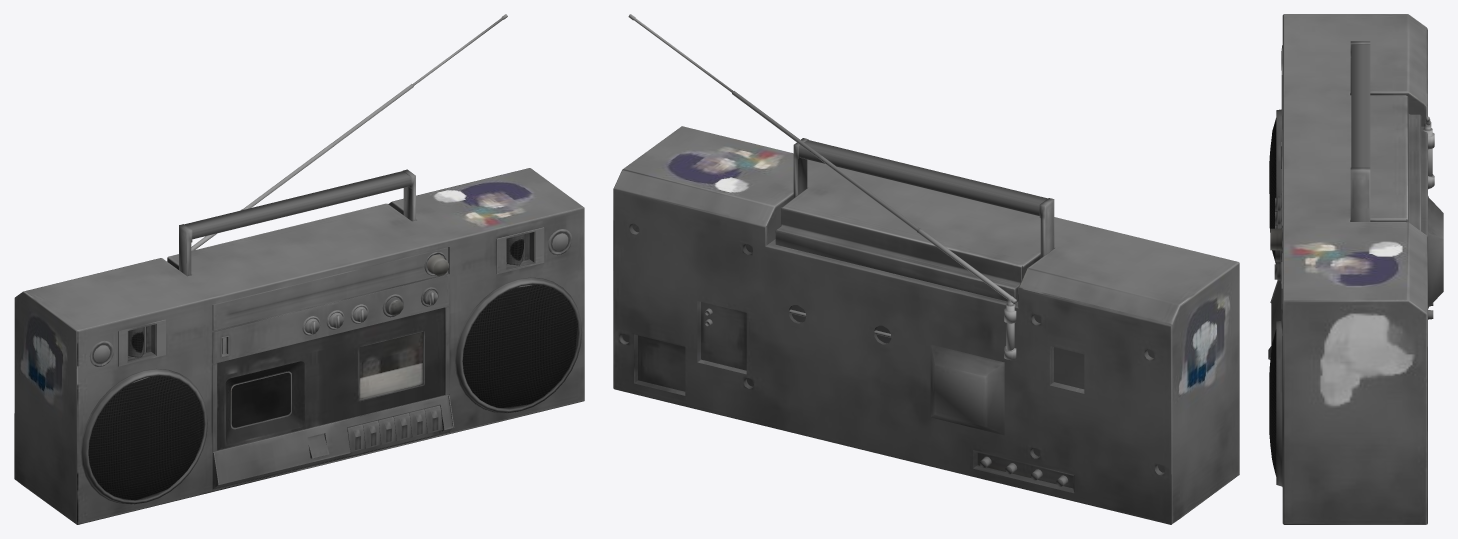
File: boombox.glb
3 views of the same model, side by side, from view 1: azimuth 30°, elevation 25°; view 2: azimuth 150°, elevation 25°; view 3: azimuth 270°, elevation 25° (orthographic). The views are drawn at different scales.
Parts seen in each view (by area): view 1: boombox; view 2: boombox; view 3: boombox.
Part boxes in pixels (bbox=[...]): boombox: bbox=[14, 14, 584, 524]; boombox: bbox=[613, 14, 1239, 524]; boombox: bbox=[1268, 14, 1443, 524].
Size of the model in its own units: 0.7238 by 0.47 by 0.1865.
Materials: 2 (2 with a texture image).
